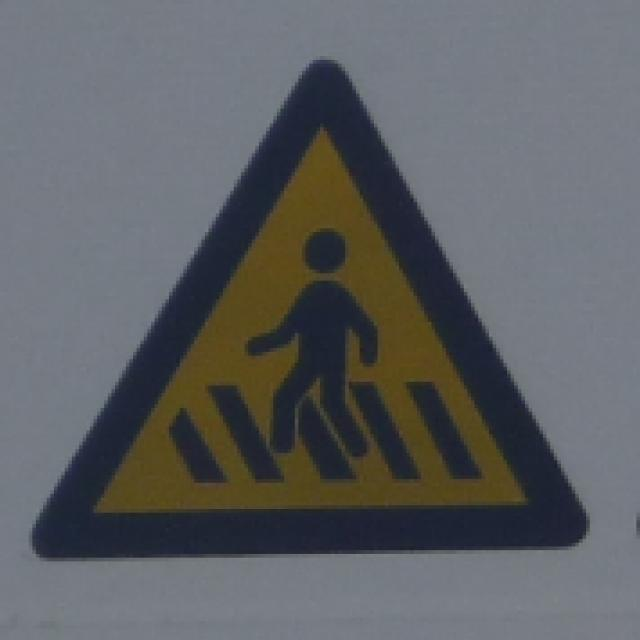Crossing: (15, 36, 606, 571)
